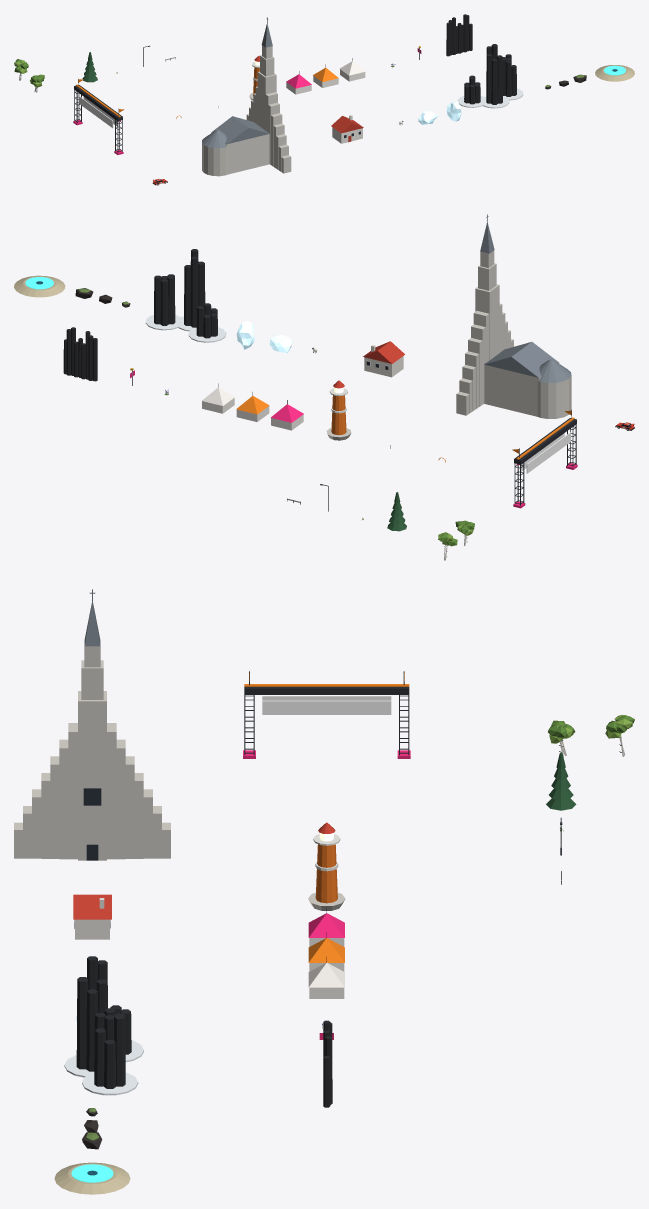
The model's file is kit.glb.
3 views of the same model, one above another, from view 1: azimuth 30°, elevation 25°; view 2: azimuth 150°, elevation 25°; view 3: azimuth 270°, elevation 25° (orthographic). The views are drawn at different scales.
Parts seen in each view (by area): view 1: Church, SeaStacks, Cliff, Arch_Frame, House, Geyser, Tent3, Tent2, Tent1, Arch_BannerBack, Spruce; view 2: Church, SeaStacks, Cliff, Arch_Frame, House, Lighthouse, Geyser, Tent2, Tent1, Tent3, Arch_BannerBack; view 3: Church, SeaStacks, Arch_Frame, Lighthouse, Arch_Banner, Geyser, House, Tent3, Tent2, Tent1, Spruce, Cliff.
Boxes of the visible parts, x1,y1,x2,y2 form: Church: [202, 17, 291, 176]; SeaStacks: [457, 44, 523, 108]; Cliff: [446, 14, 472, 56]; Arch_Frame: [73, 79, 124, 154]; House: [331, 115, 363, 143]; Geyser: [595, 65, 634, 81]; Tent3: [339, 58, 365, 81]; Tent2: [313, 64, 338, 87]; Tent1: [286, 71, 311, 94]; Arch_BannerBack: [78, 96, 113, 128]; Spruce: [82, 52, 97, 82]; Church: [456, 214, 571, 418]; SeaStacks: [145, 249, 226, 342]; Cliff: [63, 327, 97, 381]; Arch_Frame: [512, 410, 577, 508]; House: [363, 341, 404, 377]; Lighthouse: [326, 380, 351, 440]; Geyser: [14, 275, 65, 297]; Tent2: [236, 392, 269, 421]; Tent1: [271, 400, 303, 430]; Tent3: [202, 383, 234, 413]; Arch_BannerBack: [526, 432, 570, 473]; Church: [14, 589, 170, 860]; SeaStacks: [64, 956, 143, 1095]; Arch_Frame: [243, 671, 410, 758]; Lighthouse: [308, 822, 345, 910]; Arch_Banner: [262, 700, 391, 714]; Geyser: [54, 1162, 130, 1194]; House: [73, 894, 111, 939]; Tent3: [308, 957, 344, 998]; Tent2: [308, 932, 344, 971]; Tent1: [308, 907, 344, 946]; Spruce: [546, 752, 576, 810]; Cliff: [323, 1020, 332, 1107].
Size of the model in its own units: 179 by 53.13 by 106.
